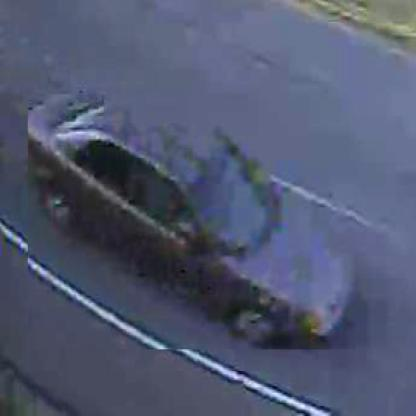car: (29, 95, 358, 352)
